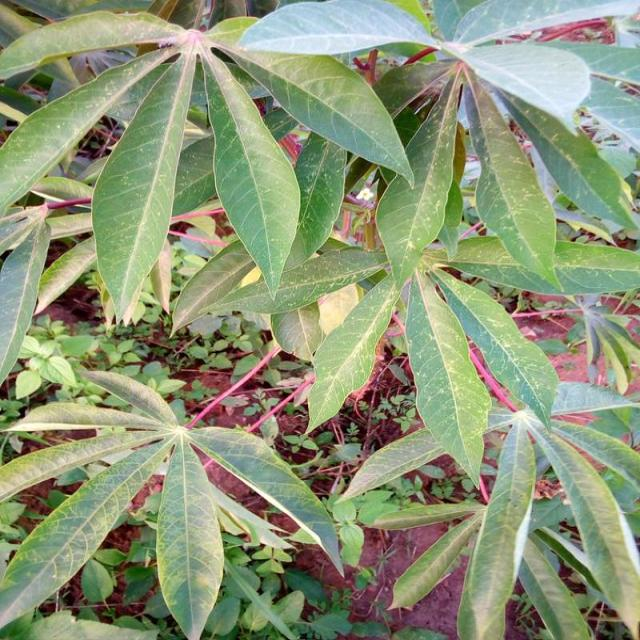cassava leaf: (1, 0, 638, 638), (199, 44, 301, 298)
